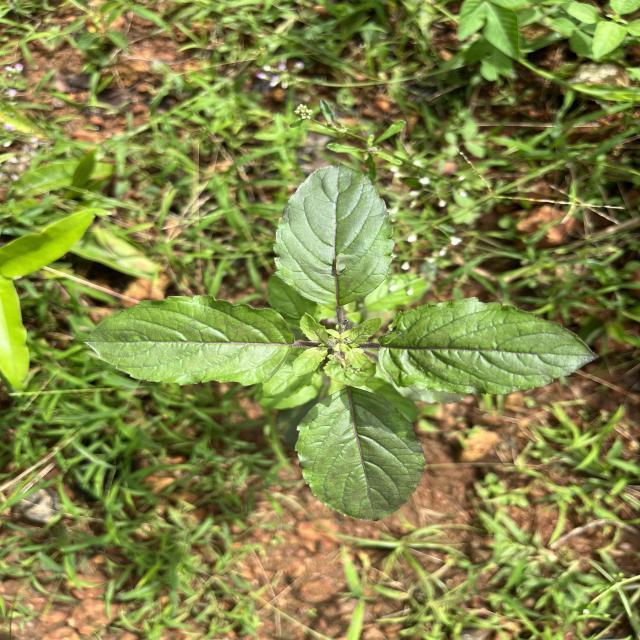Ocimum tenuiflorum: (377, 296, 601, 396), (83, 293, 295, 389), (292, 386, 428, 523), (271, 162, 397, 308)
